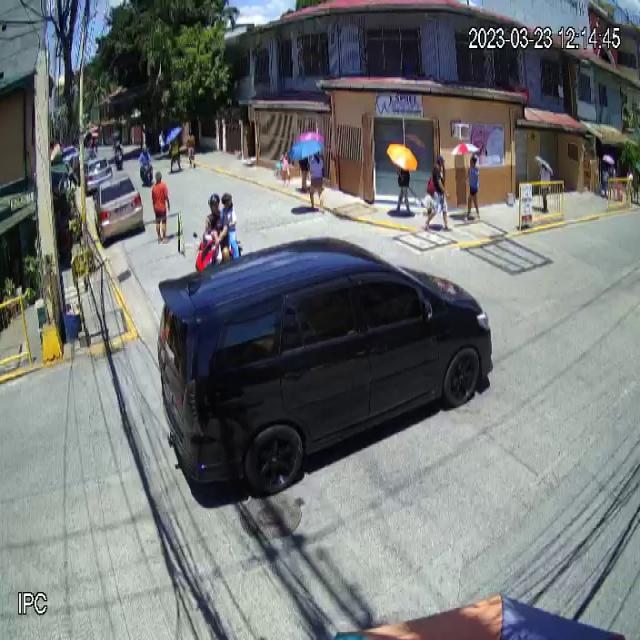Car: (155, 235, 494, 506)
